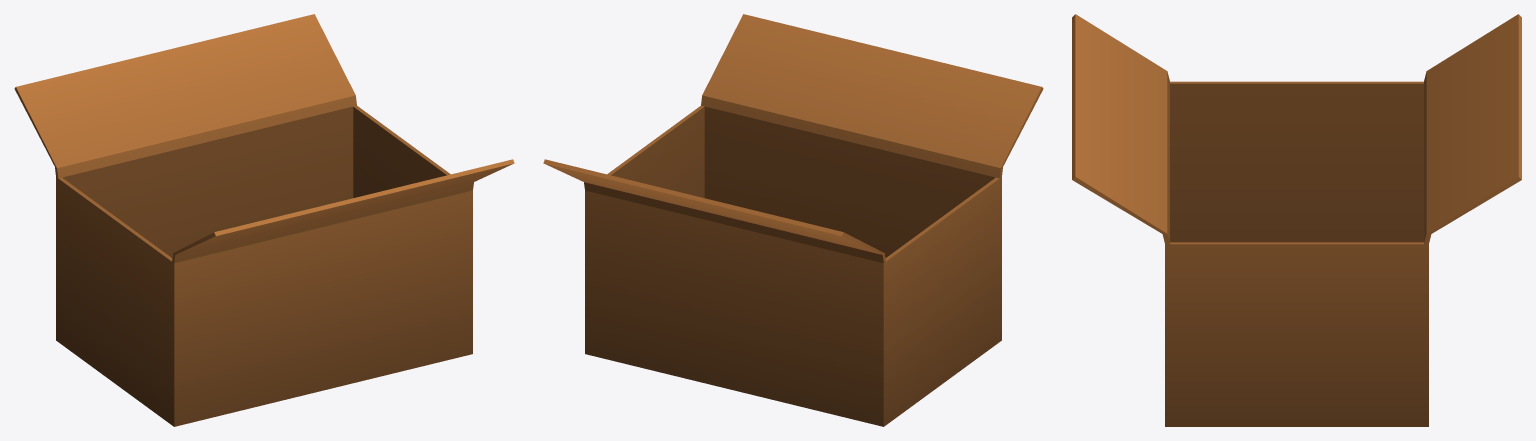
File: Prop_Cardboard_Box_01.obj
3 views of the same model, side by side, from view 1: azimuth 30°, elevation 25°; view 2: azimuth 150°, elevation 25°; view 3: azimuth 270°, elevation 25° (orthographic). The views are drawn at different scales.
Parts seen in each view (by area): view 1: Prop_Cardboard_Box_01; view 2: Prop_Cardboard_Box_01; view 3: Prop_Cardboard_Box_01.
Part boxes in pixels (left/top/right/bottom): Prop_Cardboard_Box_01: left=14, top=14, right=514, bottom=426; Prop_Cardboard_Box_01: left=543, top=14, right=1043, bottom=426; Prop_Cardboard_Box_01: left=1072, top=14, right=1521, bottom=426.
Size of the model in its own units: 0.73 by 0.5235 by 0.8526.
Materials: 1 (1 with a texture image).
